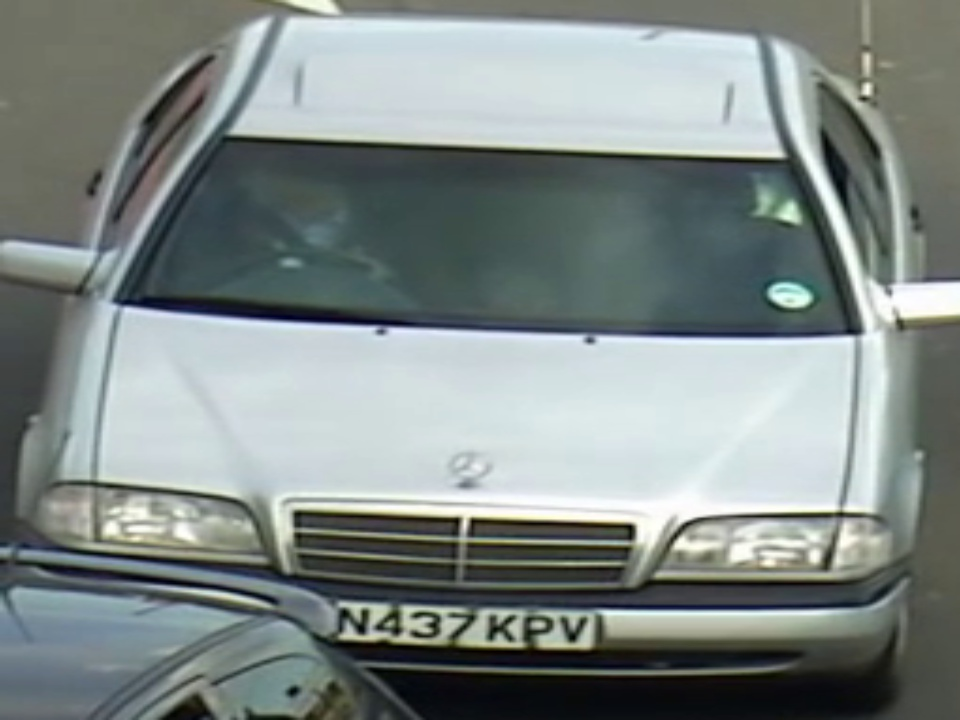ONE: (188, 133, 827, 330)
